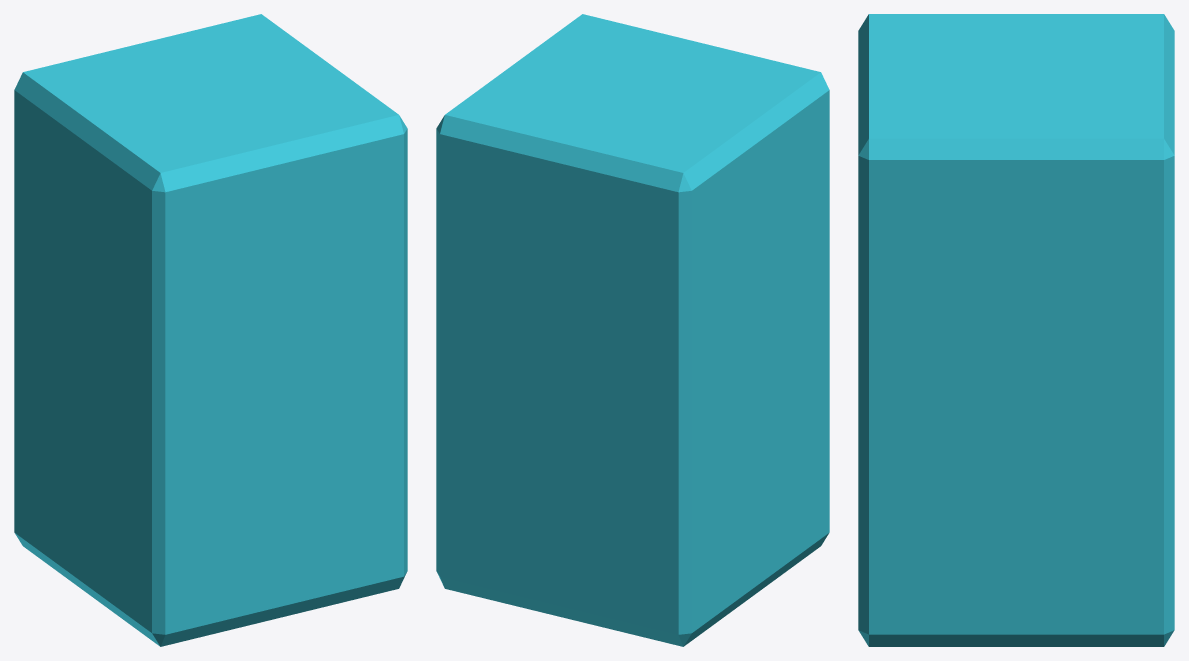
The model's file is ice block.fbx.
3 renders of one model, left to right at view 1: azimuth 30°, elevation 25°; view 2: azimuth 150°, elevation 25°; view 3: azimuth 270°, elevation 25°, orthographic. The views are drawn at different scales.
Parts seen in each view (by area): view 1: Cube; view 2: Cube; view 3: Cube.
Boxes of the visible parts, box(x1,y1,x2,y2) form: Cube: box(14, 14, 407, 646); Cube: box(436, 14, 829, 646); Cube: box(858, 14, 1174, 646).
Size of the model in its own units: 317 by 561 by 317.
